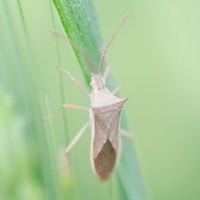insect: (57, 14, 129, 179)
